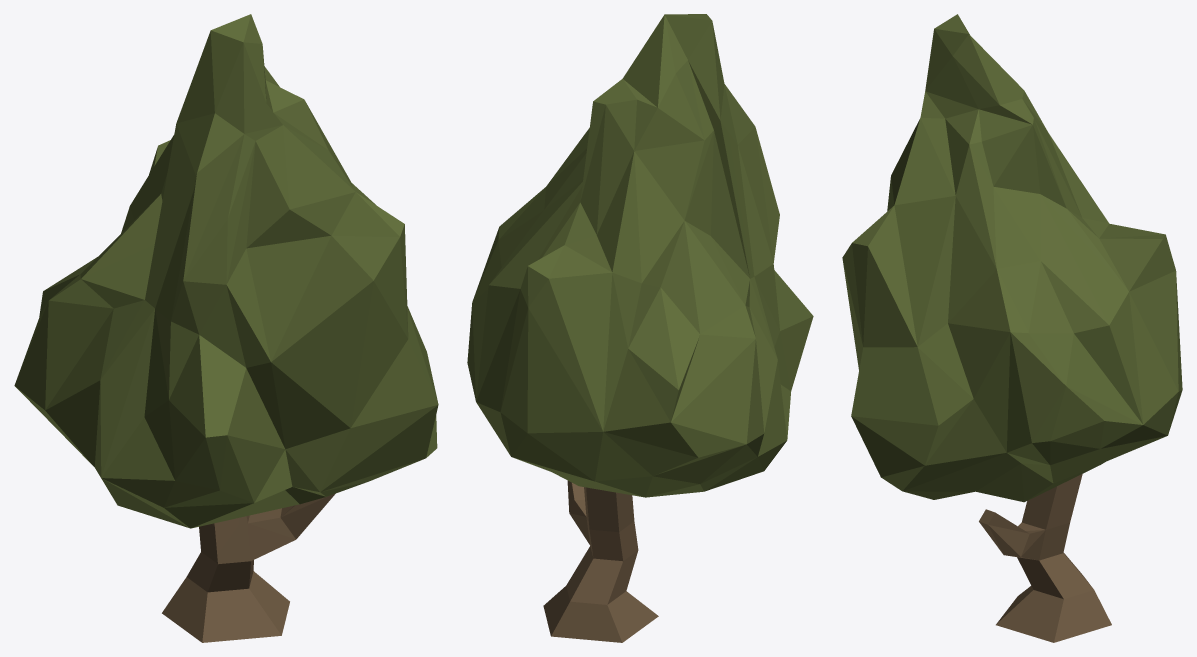
File: SM_Env_Tree_03.gltf
3 renders of one model, left to right at view 1: azimuth 30°, elevation 25°; view 2: azimuth 150°, elevation 25°; view 3: azimuth 270°, elevation 25°, orthographic. The views are drawn at different scales.
Parts seen in each view (by area): view 1: SM_Env_Tree_03; view 2: SM_Env_Tree_03; view 3: SM_Env_Tree_03.
Part boxes in pixels (left/top/right/bottom): SM_Env_Tree_03: left=14, top=14, right=438, bottom=642; SM_Env_Tree_03: left=467, top=14, right=813, bottom=642; SM_Env_Tree_03: left=842, top=14, right=1182, bottom=642.
Size of the model in its own units: 1.55 by 2.95 by 1.59.
Materials: 1 (1 with a texture image).
